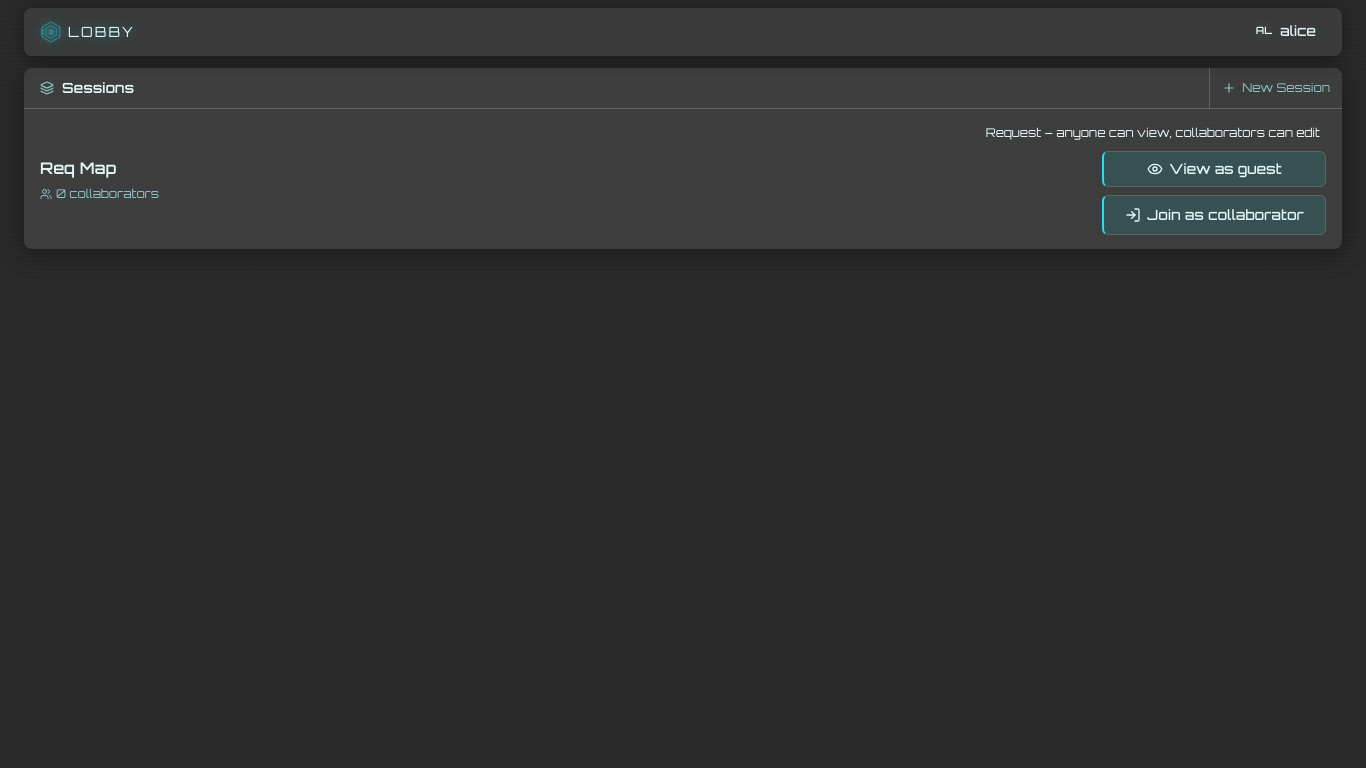
it: LobbyPage – all buttons have cursor-pointer › Join Request dialog buttons all have cursor-pointer
Click the button "Join as collaborator": (1214, 215) 1102,195 -> 1326,235
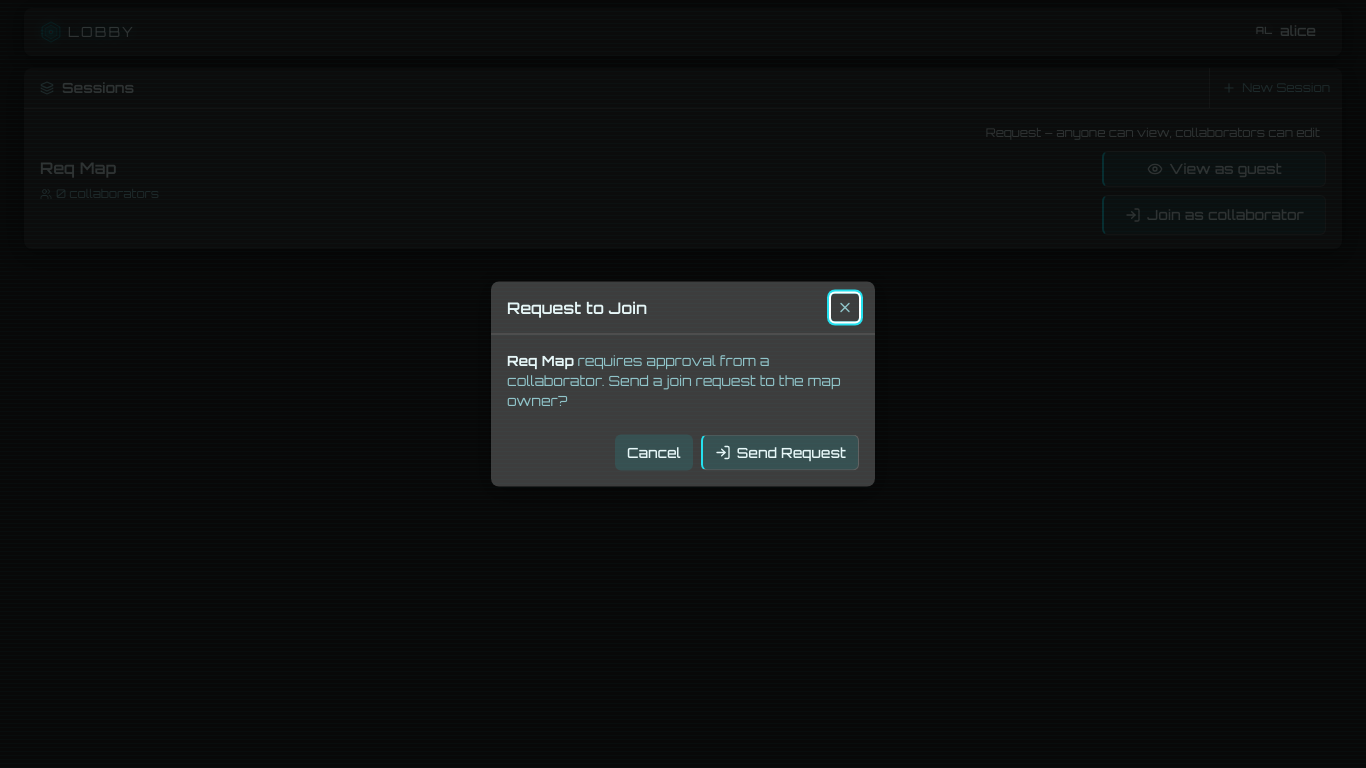
Now the button "Send Request" is shown, box 701,434 -> 859,470
